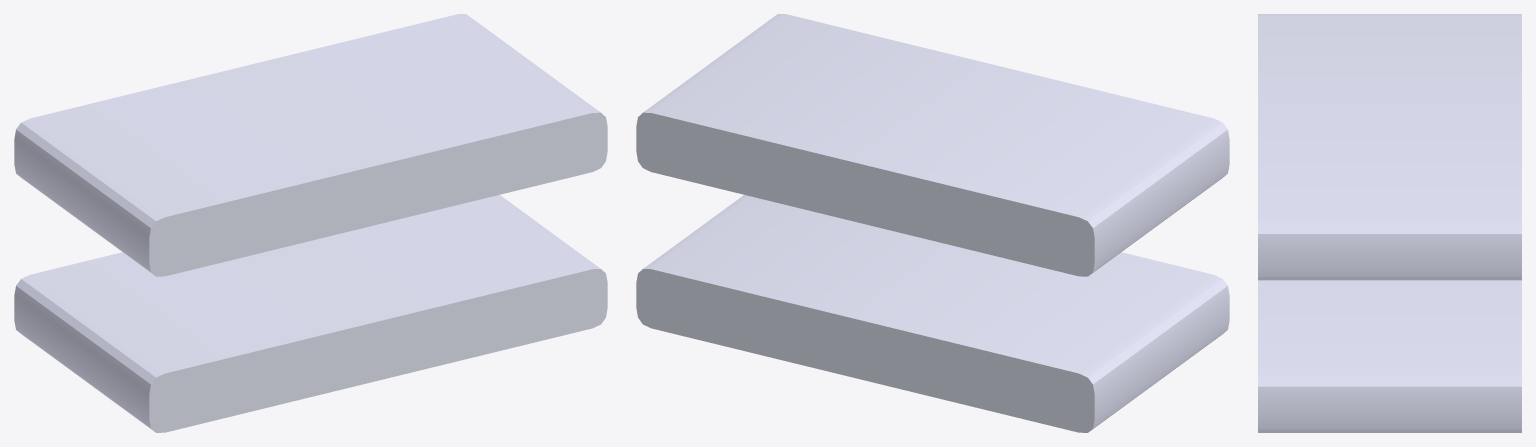
3 views of the same model, side by side, from view 1: azimuth 30°, elevation 25°; view 2: azimuth 150°, elevation 25°; view 3: azimuth 270°, elevation 25° (orthographic). The views are drawn at different scales.
Visible parts, largest first — view 1: =_Soul_Grey; view 2: =_Soul_Grey; view 3: =_Soul_Grey.
Part boxes in pixels (x1,y1,x2,y2): =_Soul_Grey: (14, 14, 607, 432); =_Soul_Grey: (636, 14, 1229, 432); =_Soul_Grey: (1258, 14, 1521, 432).
Size of what is drawn, in the model's own units: 0.0882 by 0.0396 by 0.045.
2 materials, 2 textured.
